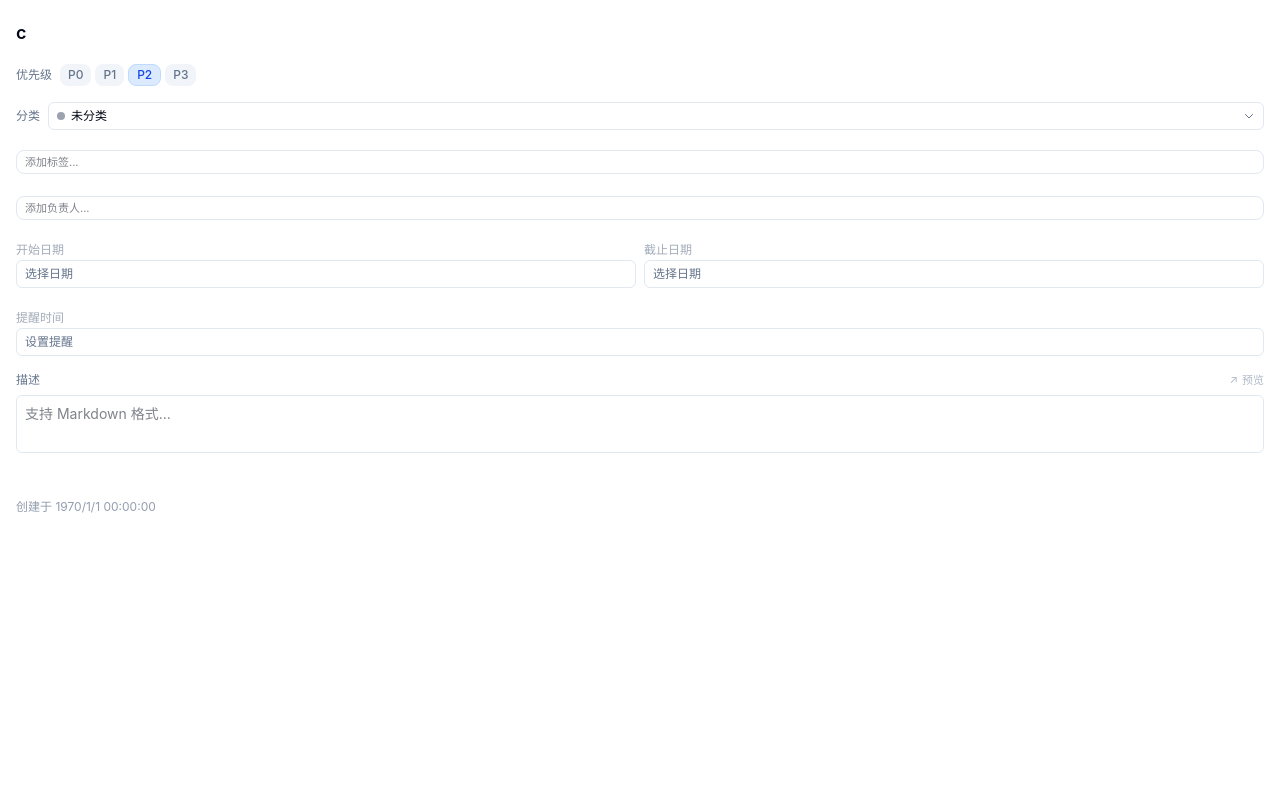
Test case: DetailPanel 子任务日期选择器越界置灰 › 开始日期选择器同样受父范围约束
This screenshot has width=1280, height=800.
Click the button "选择日期" below "开始日期" at (49, 274), box [16,260,636,288]
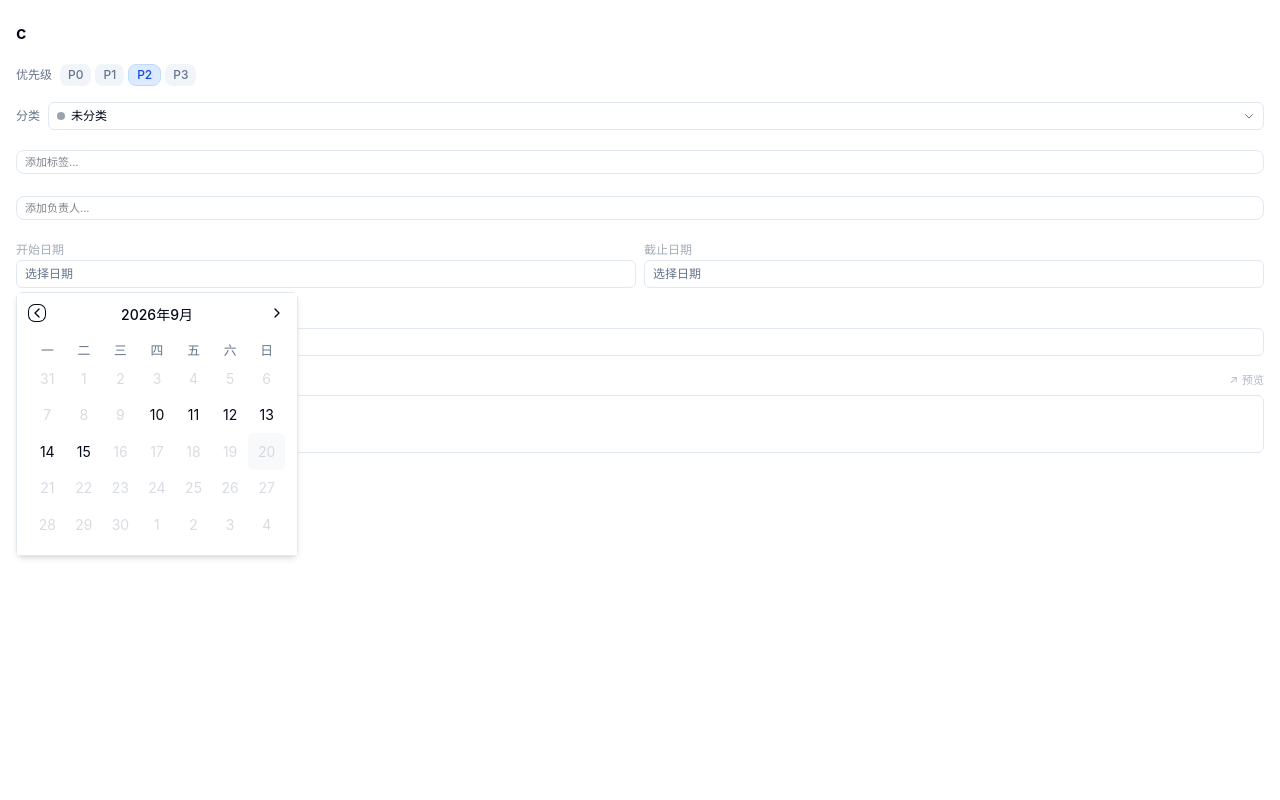
Now the table is shown, box [29,341,285,543]
